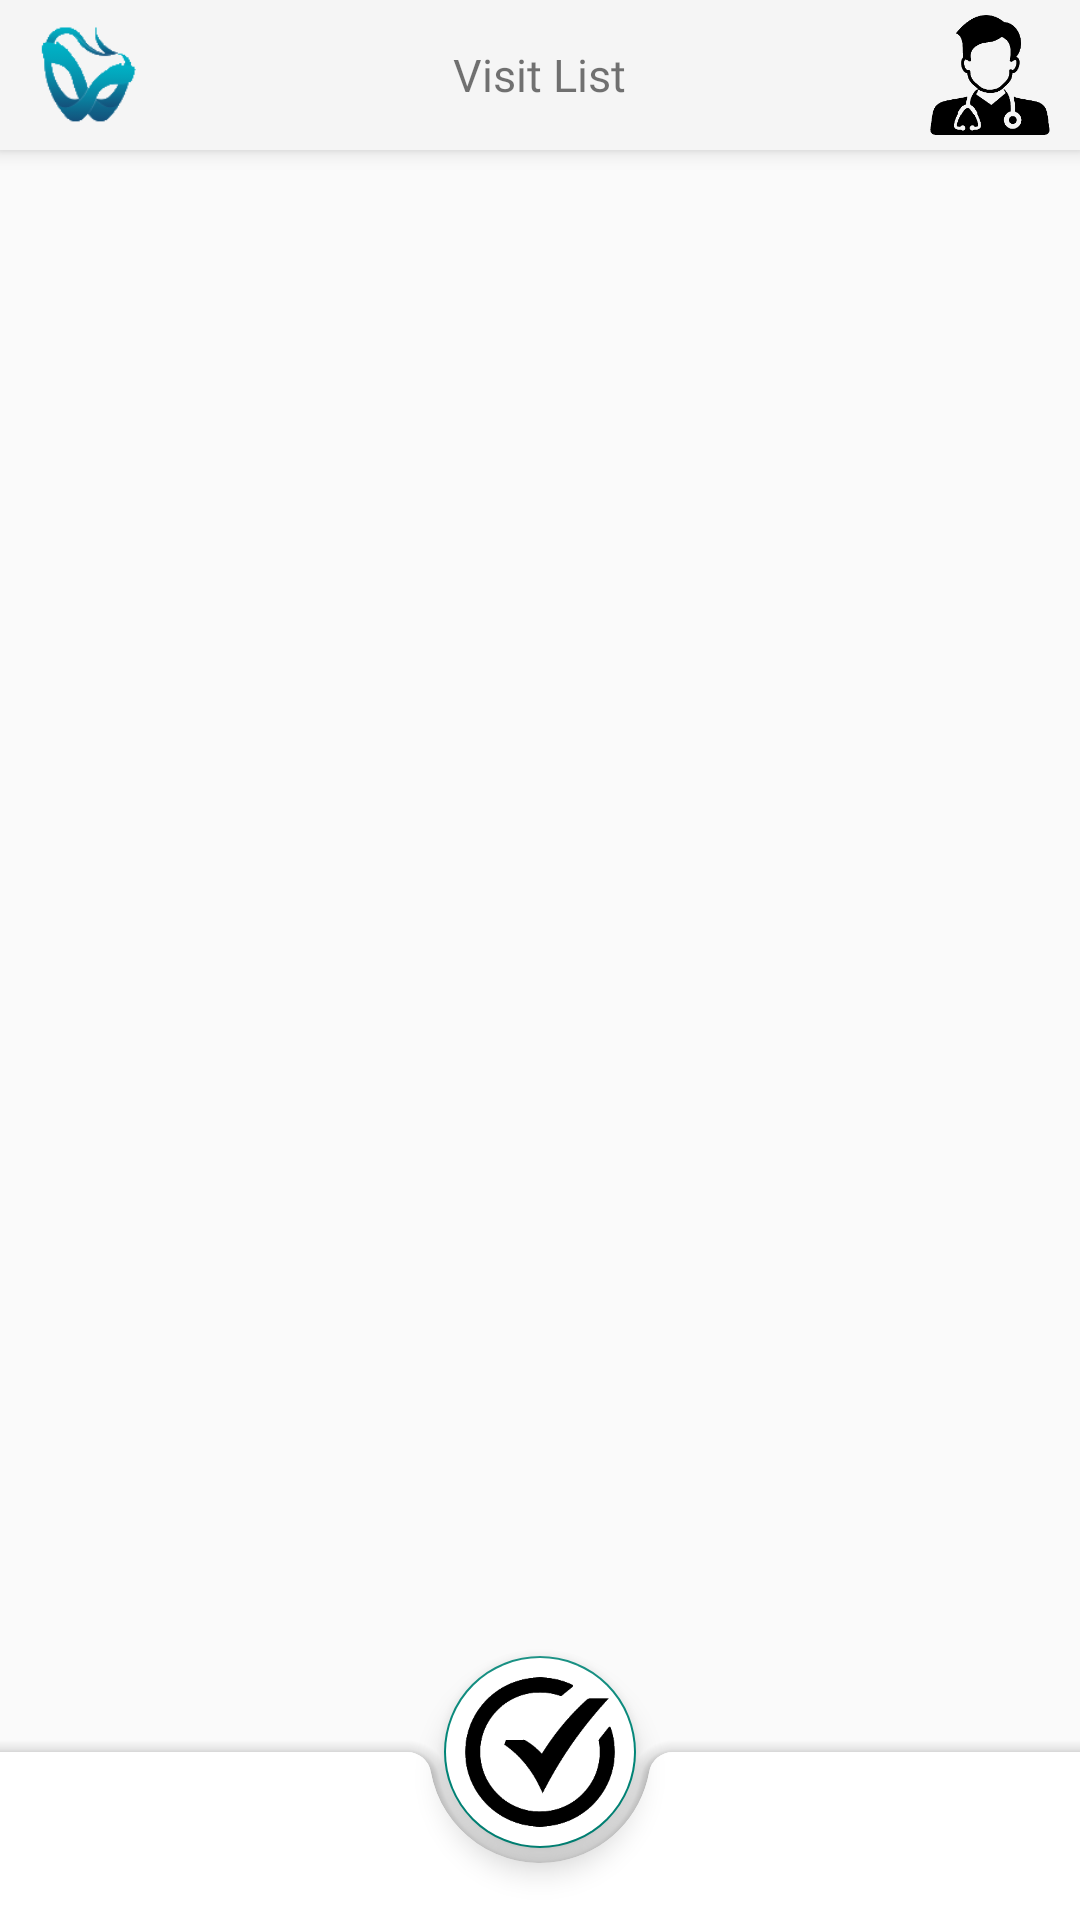

Where to tap for icons on this 1080px x 1920px app screen, as point (x, y):
complete: point (540, 1752)
doctor: point (990, 75)
